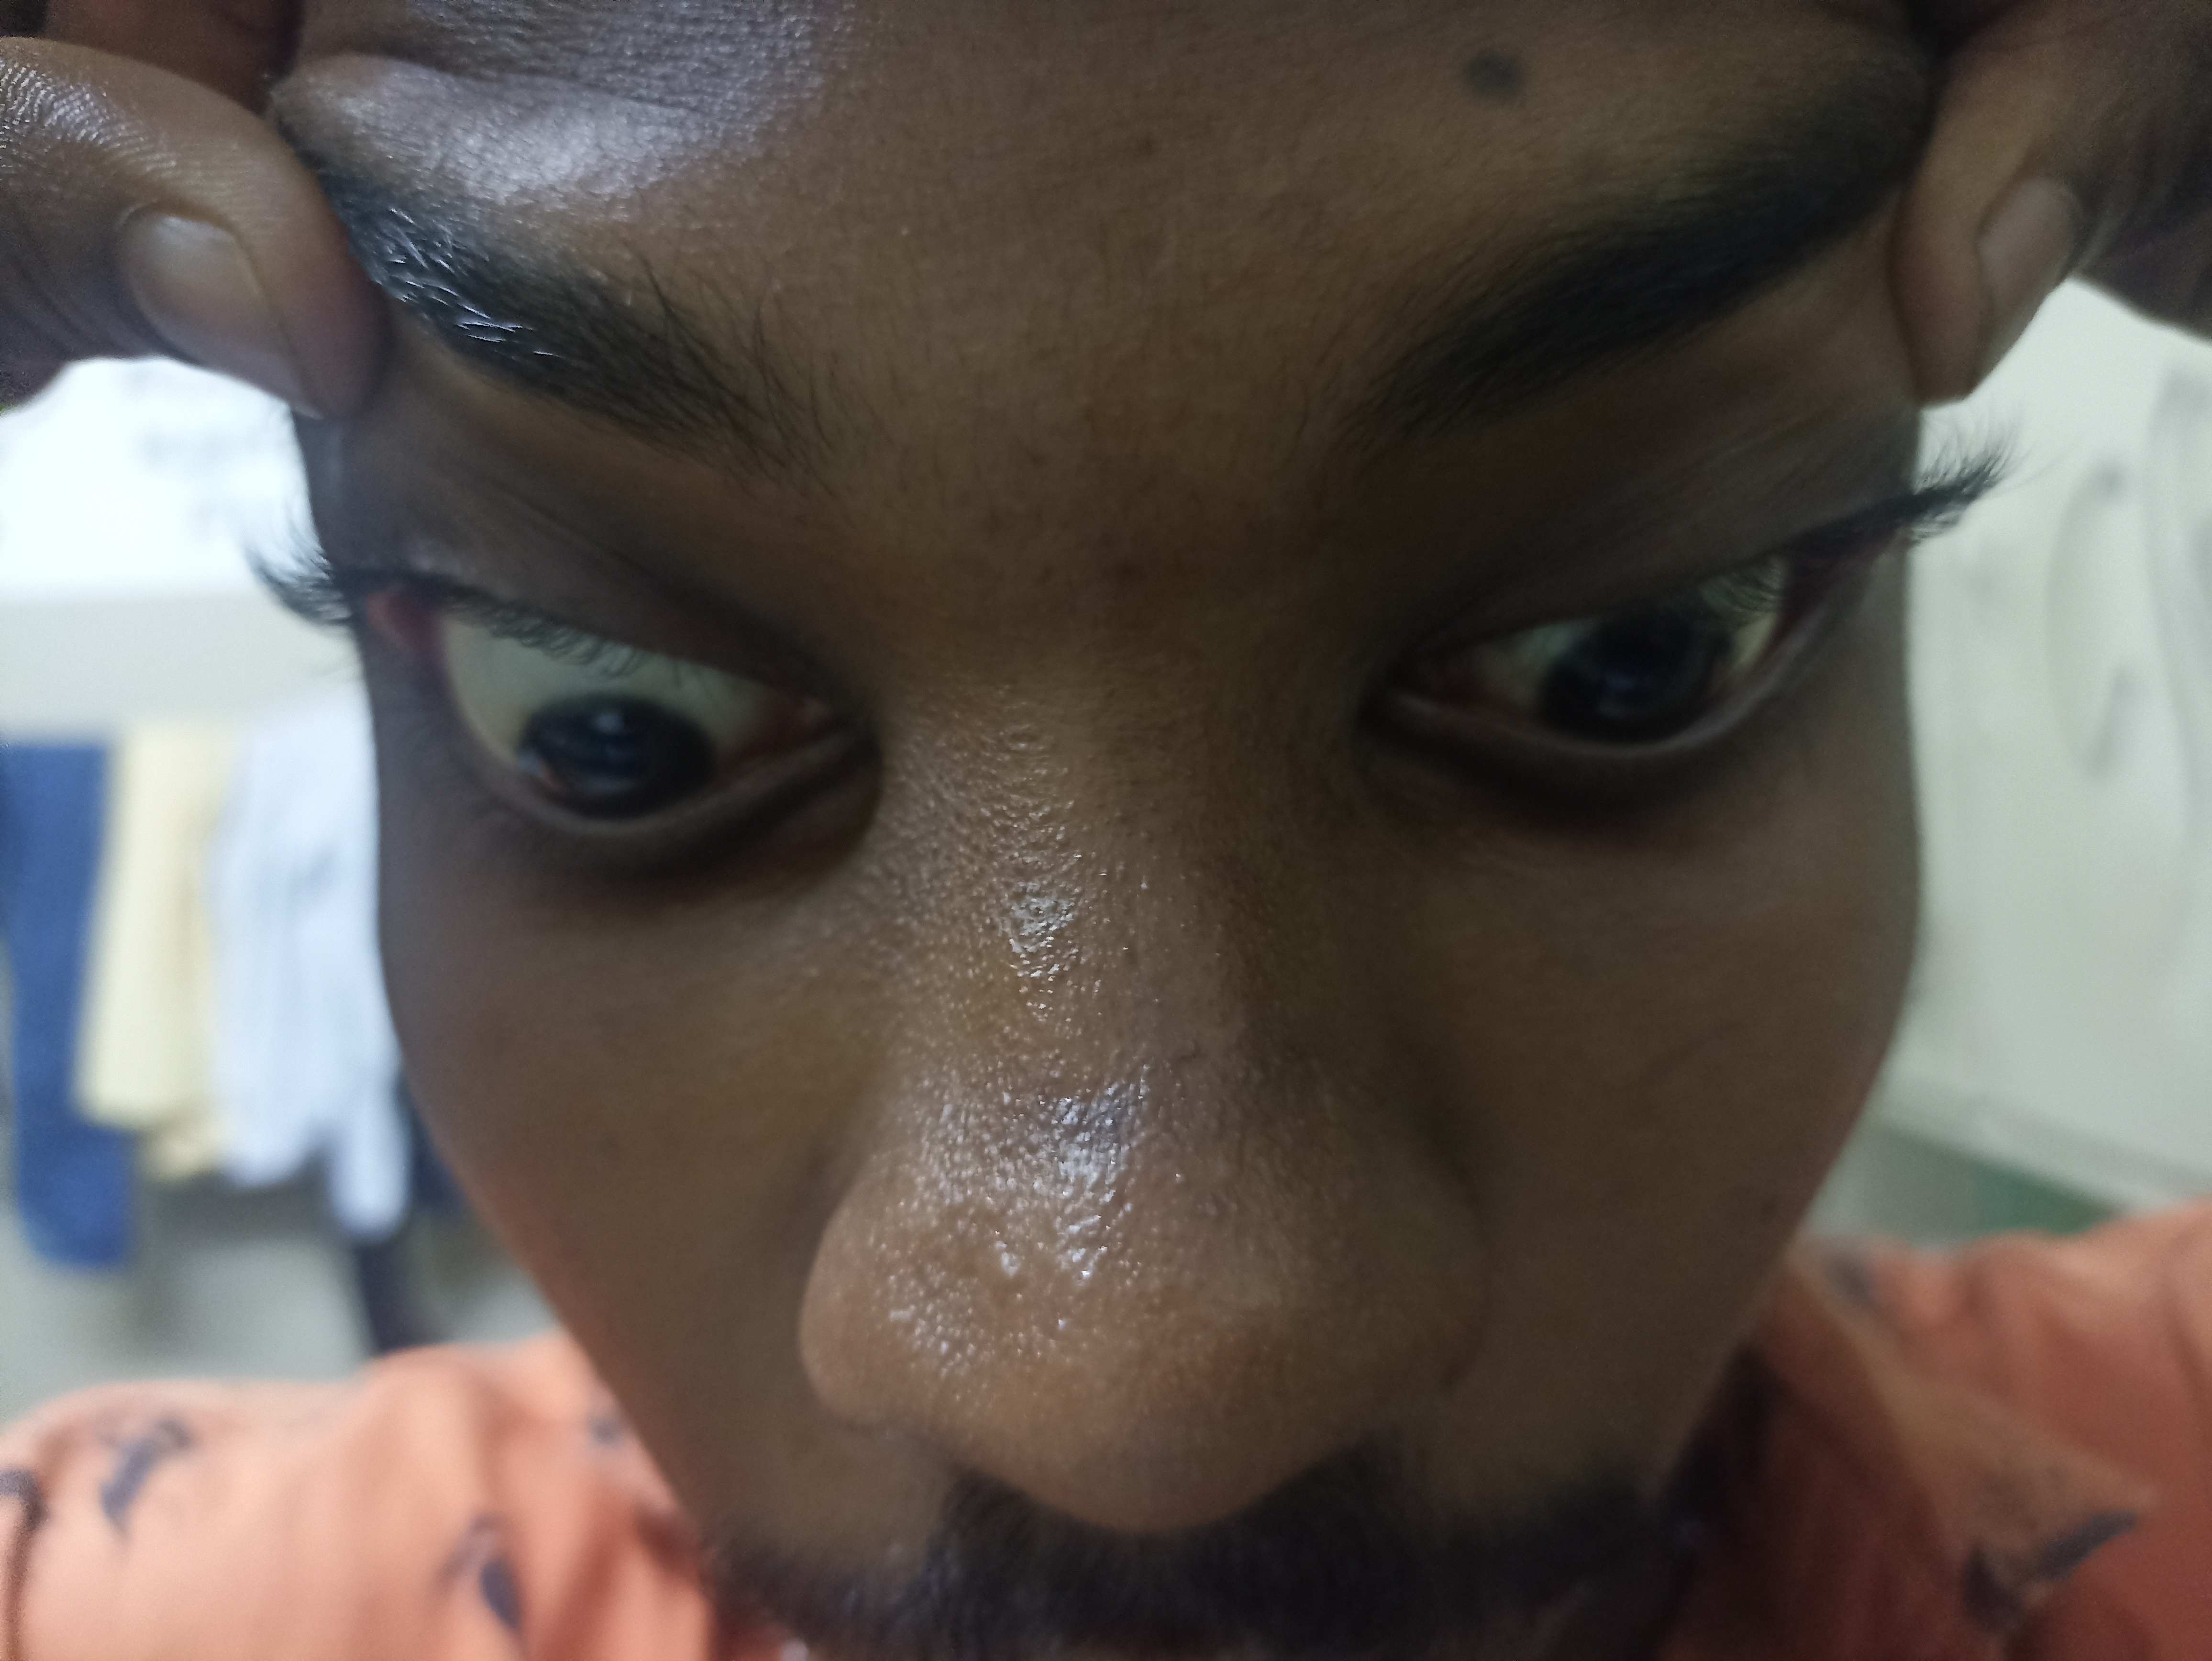EYE DOWN: (99, 246, 975, 1036), (1280, 229, 2099, 1057)
